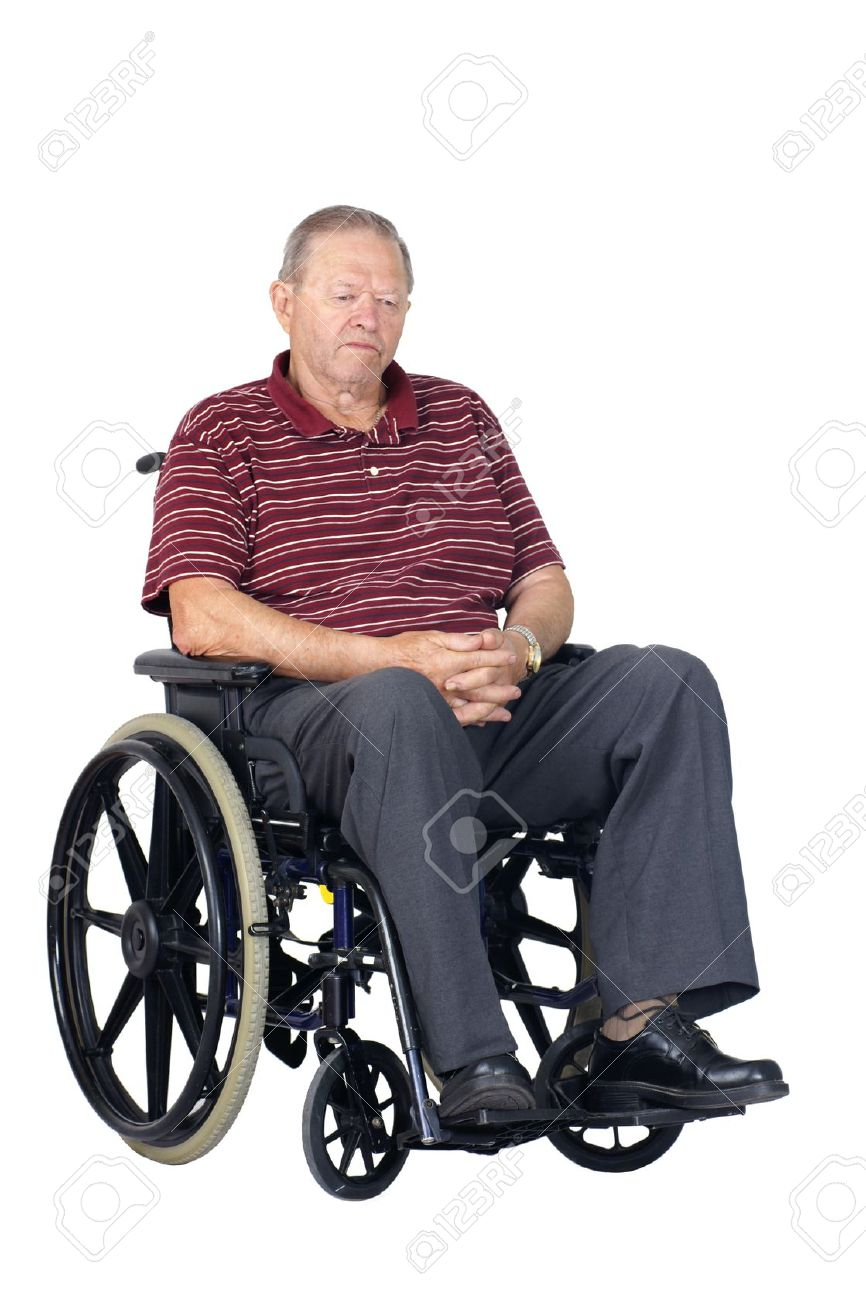person: (129, 205, 626, 681)
wheelchair: (30, 681, 777, 1192)
